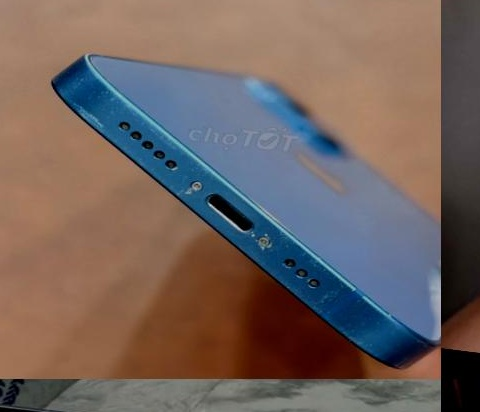scratch: (26, 52, 425, 345), (7, 399, 116, 412)
